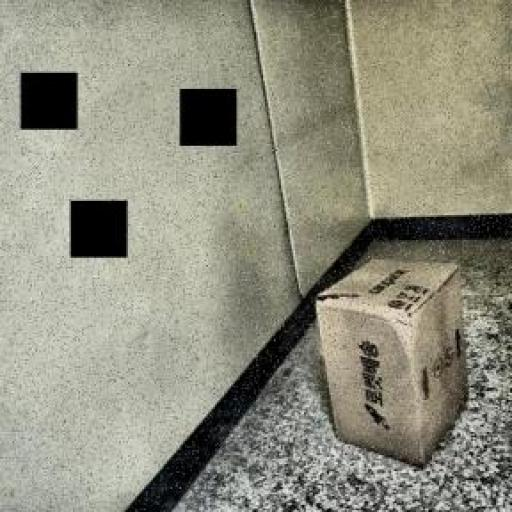box: (277, 238, 491, 478)
